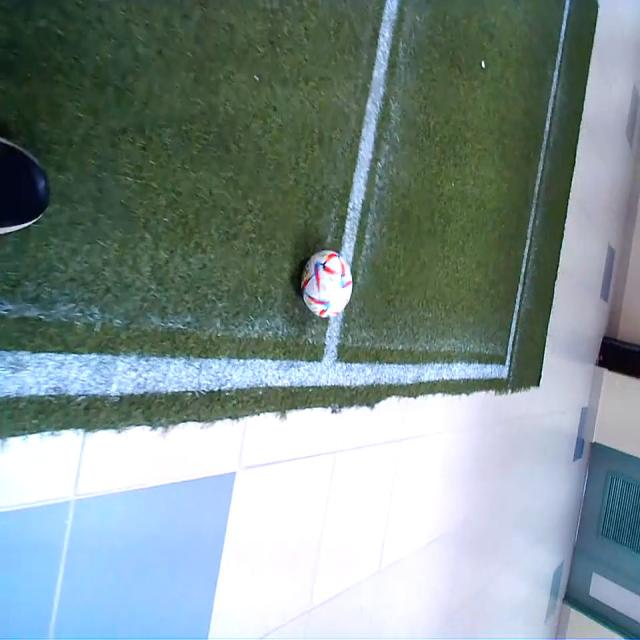ball: (302, 249, 353, 318)
